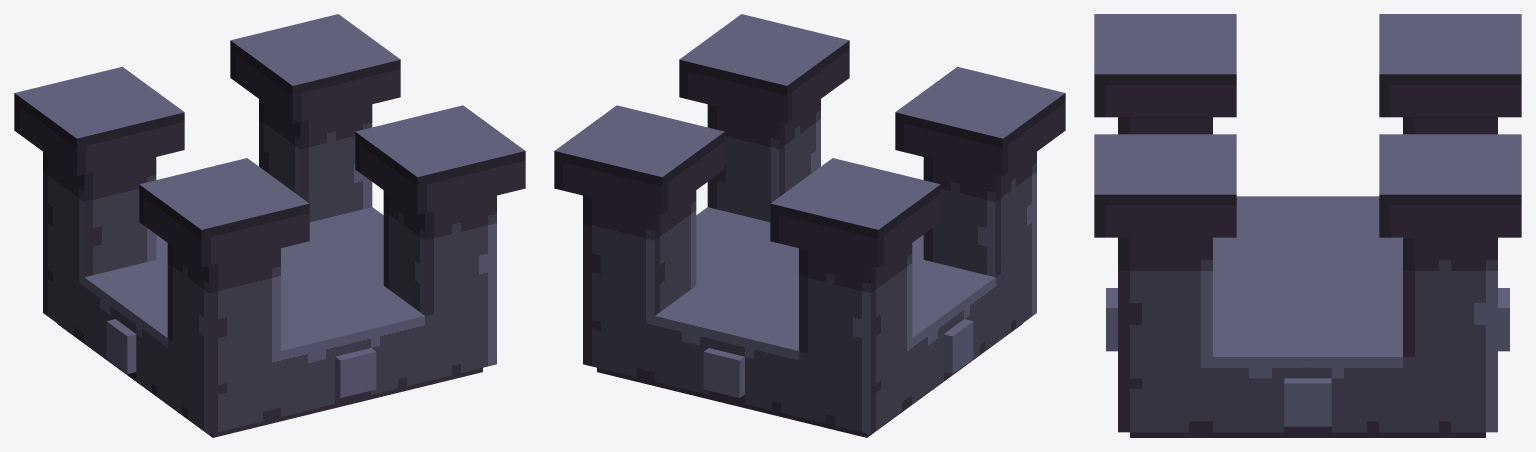
Rendered from bell_hookao.fezao.glb.
3 renders of one model, left to right at view 1: azimuth 30°, elevation 25°; view 2: azimuth 150°, elevation 25°; view 3: azimuth 270°, elevation 25°, orthographic. The views are drawn at different scales.
Parts seen in each view (by area): view 1: BELL_HOOKAO; view 2: BELL_HOOKAO; view 3: BELL_HOOKAO.
Boxes of the visible parts, box(x1,y1,x2,y2) form: BELL_HOOKAO: box(14, 14, 525, 437); BELL_HOOKAO: box(554, 14, 1065, 437); BELL_HOOKAO: box(1094, 14, 1521, 437).
Size of the model in its own units: 2.25 by 1.5 by 2.25.
1 material, 1 textured.
